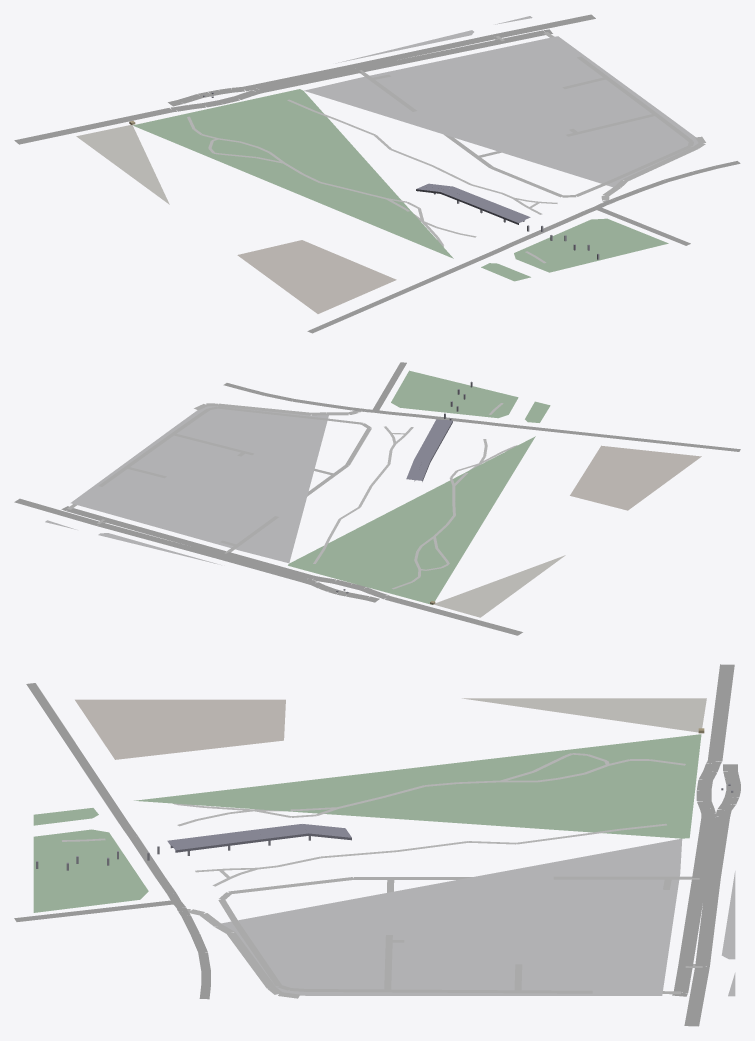
The picture shows the model from 3 angles, top to bottom: view 1: azimuth 30°, elevation 25°; view 2: azimuth 150°, elevation 25°; view 3: azimuth 270°, elevation 25°; orthographic projection. The views are drawn at different scales.
Bounding box in the file's own units: 607 × 9.48 × 518.
